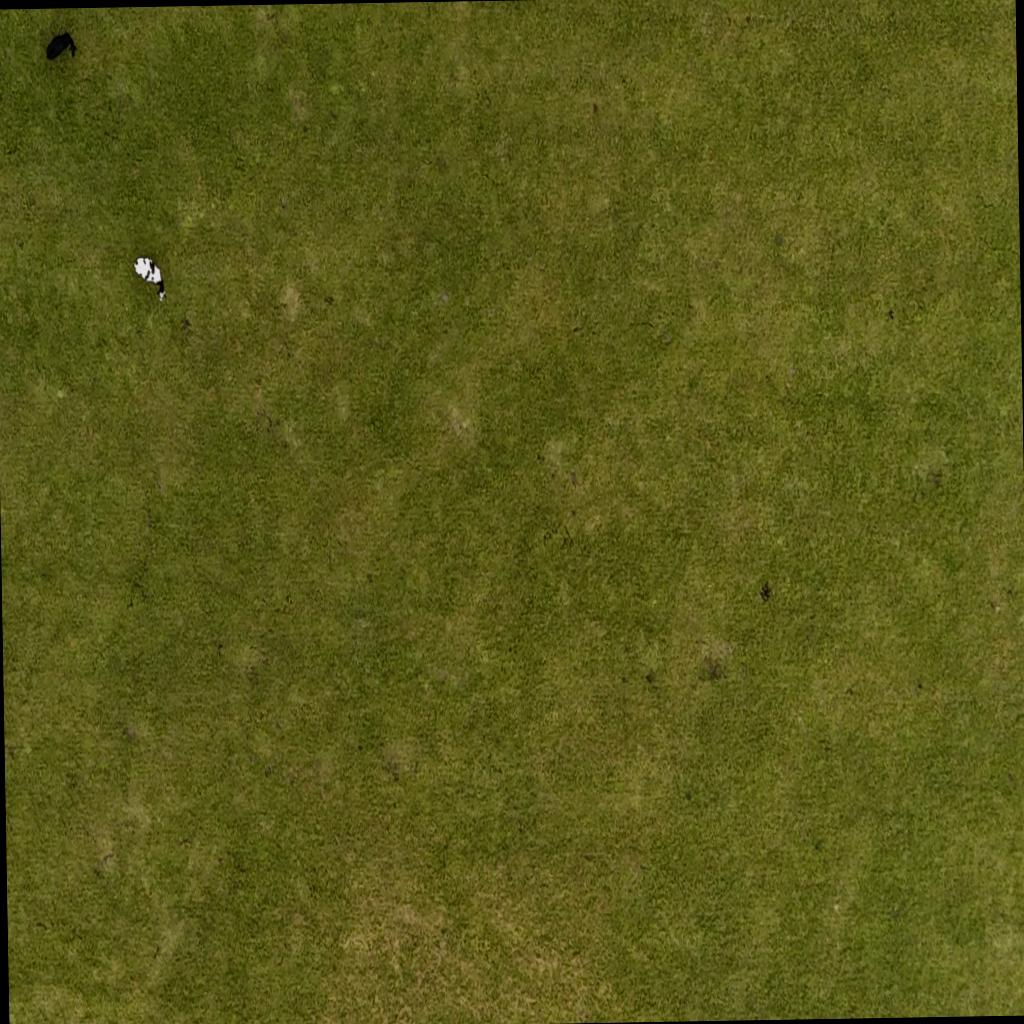cow: (132, 249, 174, 313), (43, 27, 80, 67)
